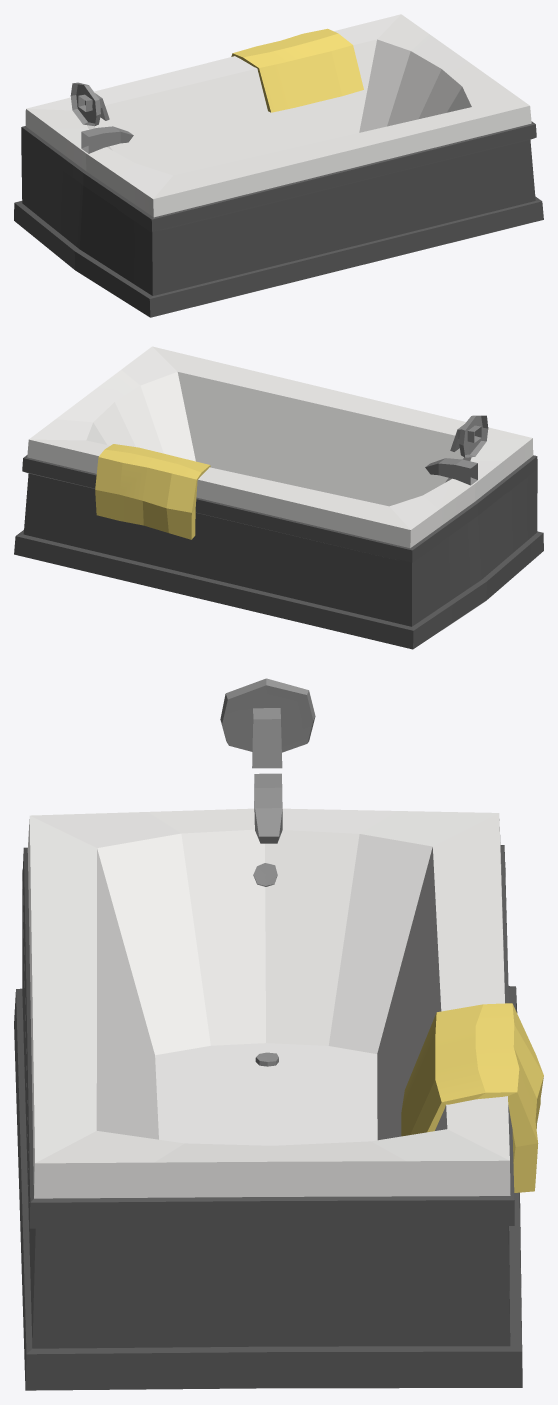
The model's file is Bath_2_231109.glb.
The picture shows the model from 3 angles, top to bottom: view 1: azimuth 30°, elevation 25°; view 2: azimuth 150°, elevation 25°; view 3: azimuth 270°, elevation 25°; orthographic projection. The views are drawn at different scales.
Parts seen in each view (by area): view 1: Bath_2; view 2: Bath_2; view 3: Bath_2.
Part boxes in pixels (x1=…): Bath_2: x1=14, y1=14, x2=543, y2=317; Bath_2: x1=14, y1=346, x2=543, y2=649; Bath_2: x1=14, y1=678, x2=543, y2=1390.
Size of the model in its own units: 3.4 by 1.48 by 2.04.
Materials: 1 (1 with a texture image).
